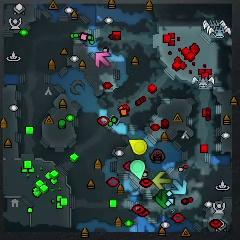p2: (128, 159, 147, 181)
p4: (128, 138, 148, 157)
x1: (92, 51, 112, 70)
x2: (153, 171, 171, 190)
x3: (171, 179, 187, 197)
x4: (155, 189, 172, 210)
